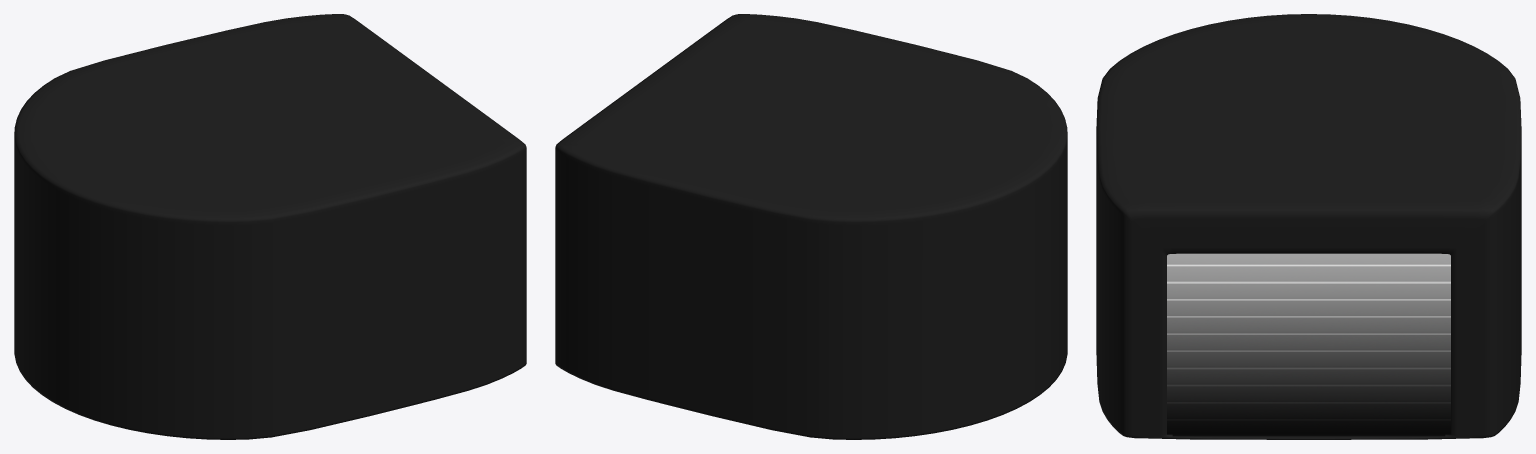
File: Garage.fbx
3 views of the same model, side by side, from view 1: azimuth 30°, elevation 25°; view 2: azimuth 150°, elevation 25°; view 3: azimuth 270°, elevation 25° (orthographic). The views are drawn at different scales.
Parts seen in each view (by area): view 1: Garage; view 2: Garage; view 3: Garage, Door.
Part boxes in pixels (x1,y1,x2,y2): Garage: [14, 14, 526, 439]; Garage: [555, 14, 1067, 439]; Garage: [1096, 14, 1521, 439]; Door: [1167, 253, 1450, 436].
Size of the model in its own units: 5.98 by 3.24 by 5.42.
2 materials, 1 textured.
